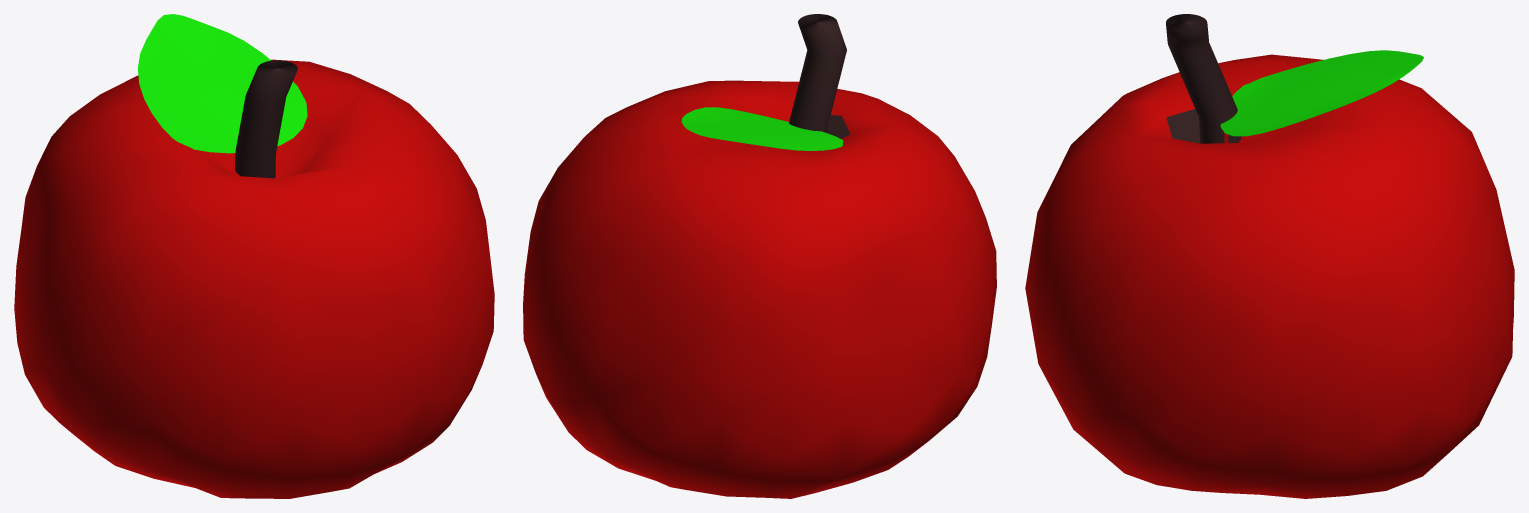
File: Apple.fbx
3 renders of one model, left to right at view 1: azimuth 30°, elevation 25°; view 2: azimuth 150°, elevation 25°; view 3: azimuth 270°, elevation 25°, orthographic. The views are drawn at different scales.
Visible parts, largest first — view 1: Apple; view 2: Apple; view 3: Apple.
Boxes of the visible parts, bbox=[...] form: Apple: bbox=[14, 14, 494, 498]; Apple: bbox=[523, 14, 996, 498]; Apple: bbox=[1025, 14, 1514, 498].
Bounding box in the file's own units: 180 × 169 × 178.
